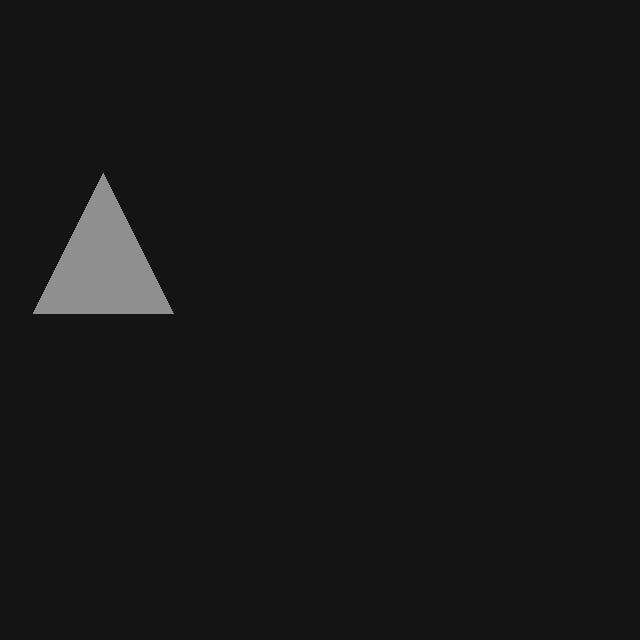triangle: (33, 173, 173, 313)
